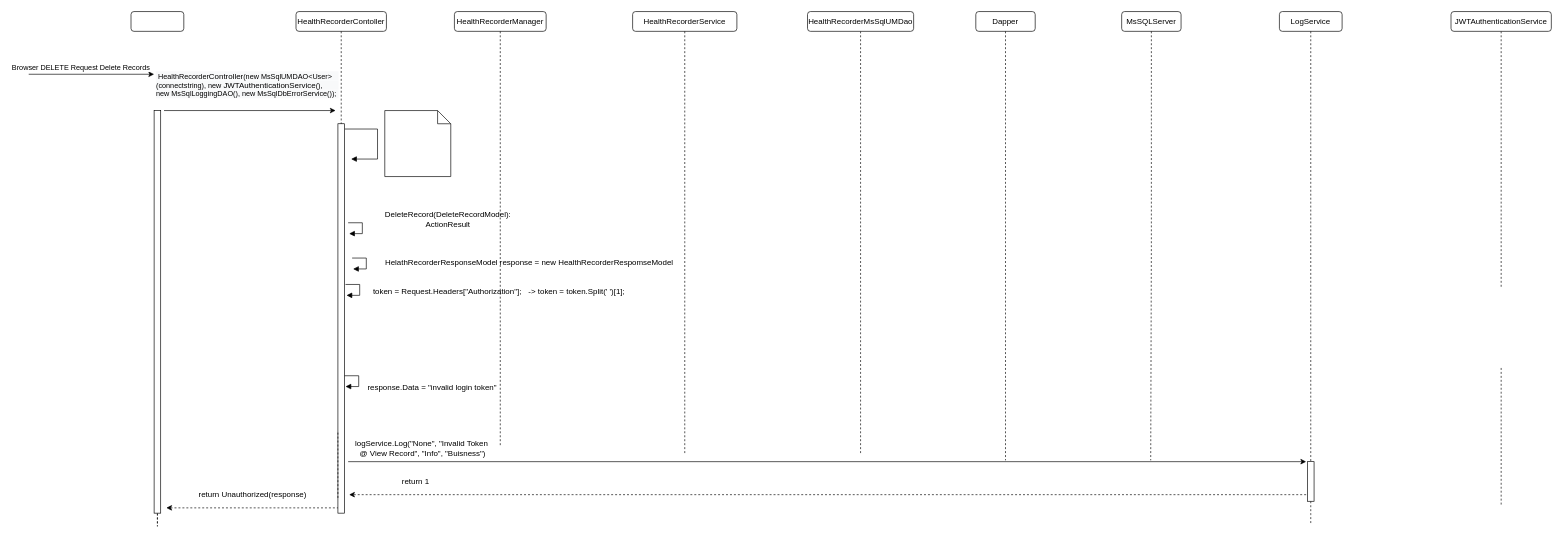
The diagram is 1563 pixels wide and 539 high, and some of its shapes have lost their labels. The shapes that lost their labels are listed below. From the top down, each one's centre as x and y in pixels, then its label:
At [157,21]: "Browser".
At [417,143]: "Constructor Dependency Injection".
